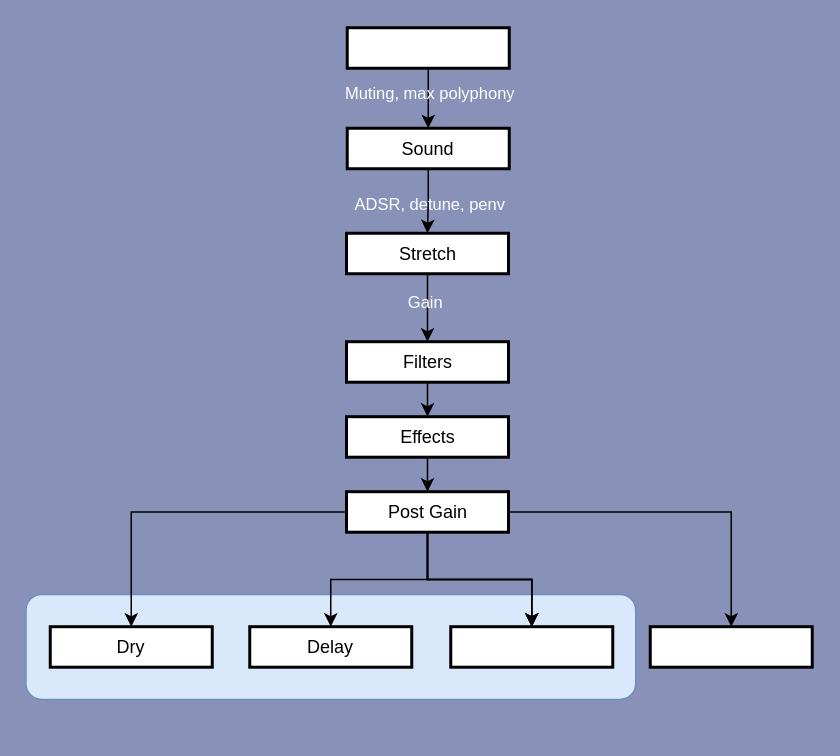
The diagram is 840 pixels wide and 756 high, and some of its shapes have lost their labels. Each missing label, with the box of its shape:
Analyzer: (648, 624, 813, 668)
Orbit: (24, 593, 636, 699)
Pattern: (345, 26, 510, 69)
Reverb: (448, 624, 614, 668)
